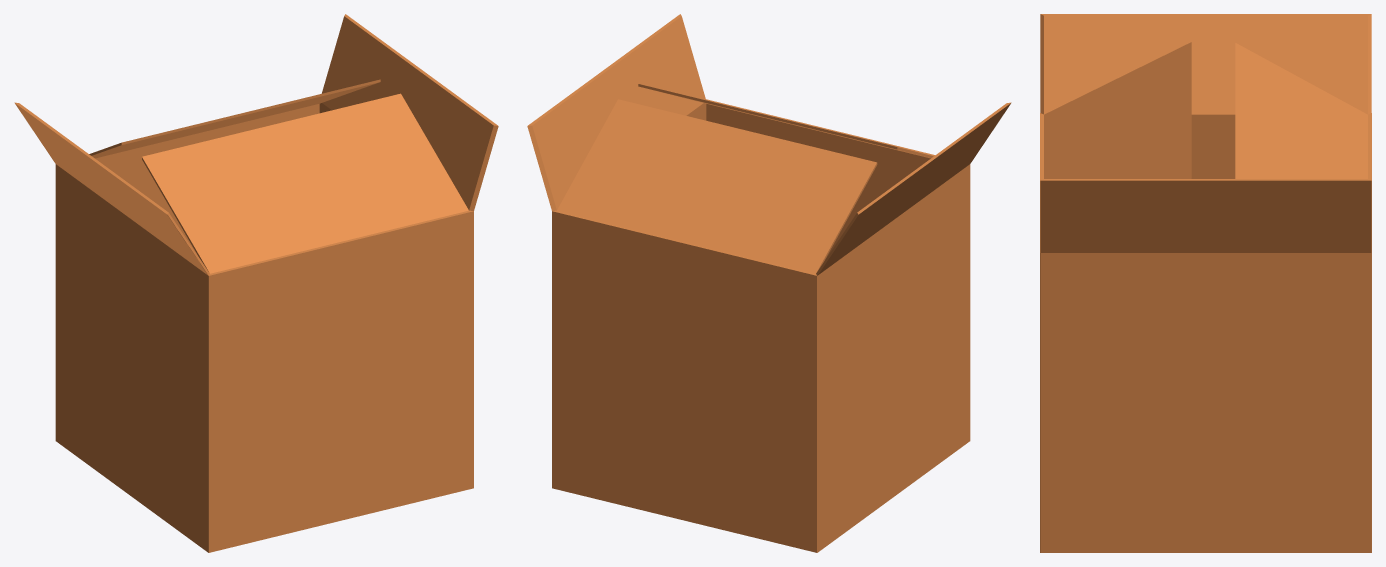
Rendered from CajaCarton_low.fbx.
3 views of the same model, side by side, from view 1: azimuth 30°, elevation 25°; view 2: azimuth 150°, elevation 25°; view 3: azimuth 270°, elevation 25° (orthographic). The views are drawn at different scales.
Visible parts, largest first — view 1: pCube1; view 2: pCube1; view 3: pCube1.
Boxes of the visible parts, box(x1,y1,x2,y2) form: pCube1: box(14, 14, 498, 552); pCube1: box(527, 14, 1011, 552); pCube1: box(1040, 14, 1371, 552).
Bounding box in the file's own units: 7.54 × 7.75 × 6.04.
